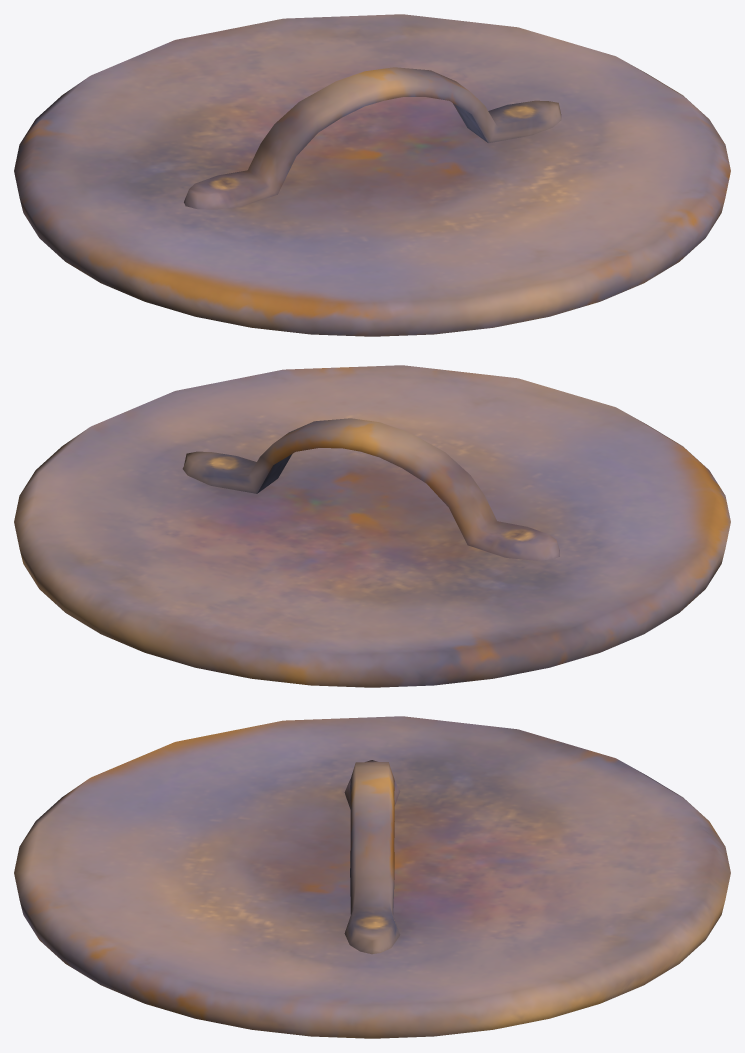
File: SM_Potion_Props_Pot_03_Cap.fbx
3 views of the same model, one above another, from view 1: azimuth 30°, elevation 25°; view 2: azimuth 150°, elevation 25°; view 3: azimuth 270°, elevation 25° (orthographic).
Parts seen in each view (by area): view 1: SM_Potion_Props_Pot_03_Cap_LOD0; view 2: SM_Potion_Props_Pot_03_Cap_LOD0; view 3: SM_Potion_Props_Pot_03_Cap_LOD0.
Boxes of the visible parts, bbox=[...] form: SM_Potion_Props_Pot_03_Cap_LOD0: bbox=[14, 14, 730, 336]; SM_Potion_Props_Pot_03_Cap_LOD0: bbox=[14, 365, 730, 687]; SM_Potion_Props_Pot_03_Cap_LOD0: bbox=[14, 716, 730, 1038].
Size of what is drawn, in the model's own units: 46.71 by 7.88 by 46.71.
